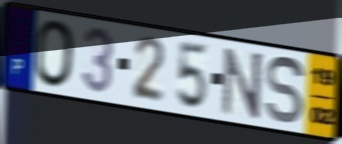2: (132, 34, 167, 104)
3: (80, 25, 115, 97)
5: (174, 38, 212, 111)
N: (221, 45, 265, 121)
O: (34, 18, 77, 90)
S: (264, 53, 307, 127)
